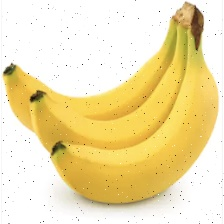banana: (12, 34, 193, 169)
